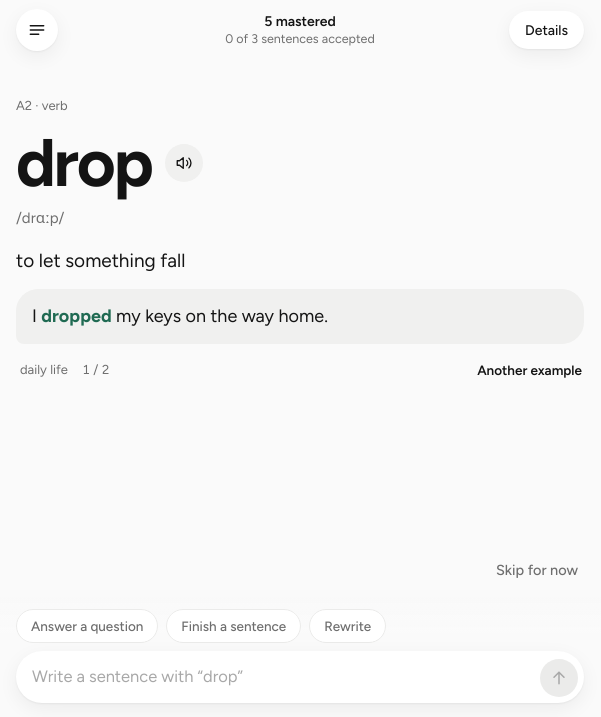
Test: Study › shows one meaning and one example at a time
expect the heading "drop" is shown: met, box [16, 129, 152, 196]
expect the text "to let something fall" is shown: met, box [16, 249, 185, 272]
What coordinates should you click on to do the following:
click the button "Another example"
I would click on:
 (530, 370)
Its box is [475, 354, 584, 386].
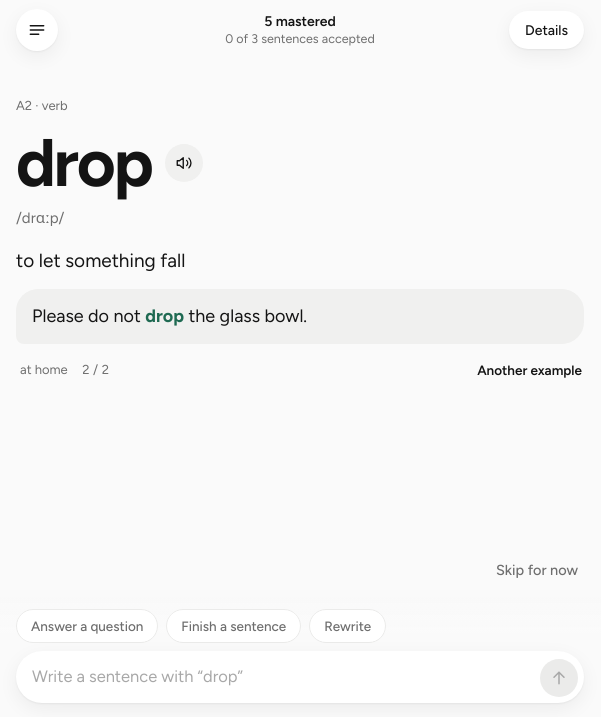
expect the text "Please do not" is shown: met, box [32, 304, 145, 326]
